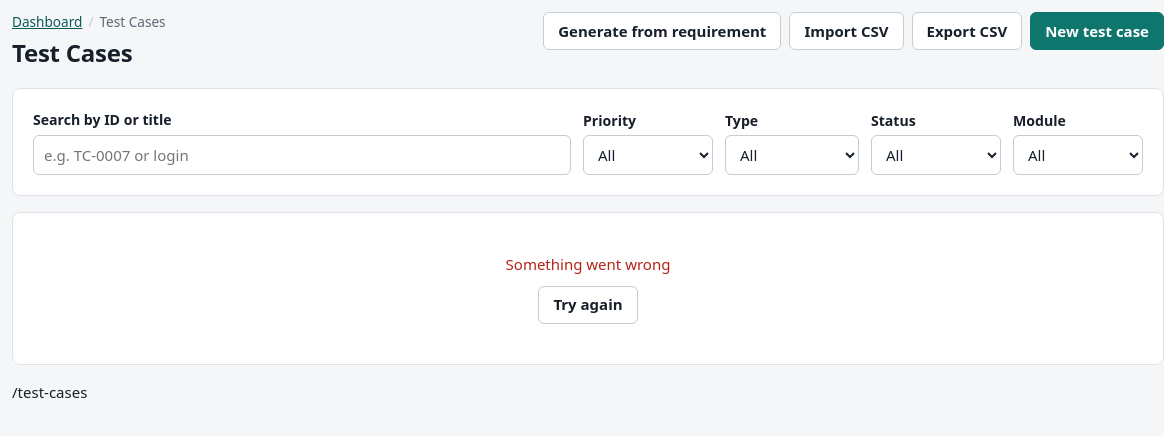
Test case: TestCaseListPage › shows an error state and retries
The width and height of the screenshot is (1164, 436).
Expected: the message shows "Something went wrong", x1=506 y1=254 x2=670 y2=274
Click the button "Try again" at [588, 304], box x1=538 y1=286 x2=638 y2=324
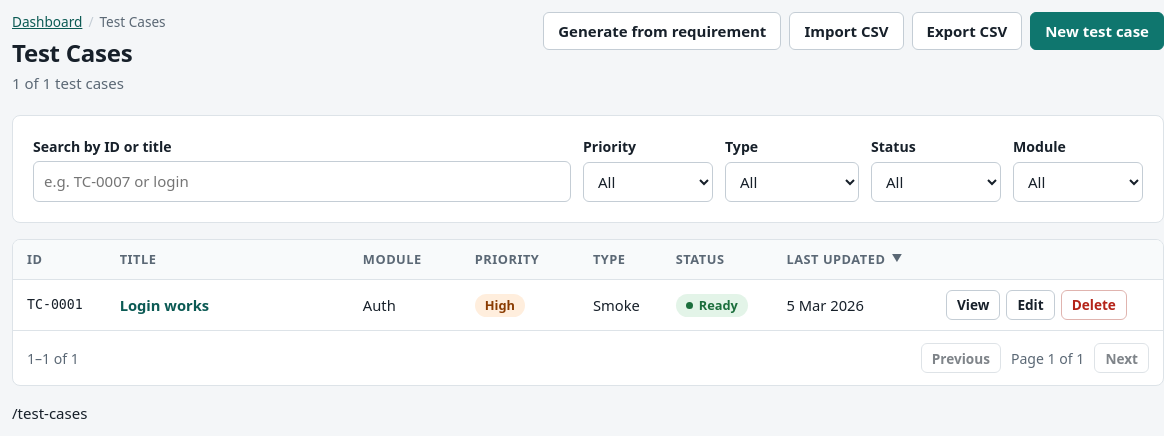
Result: the link "Login works" is shown at x1=120 y1=295 x2=209 y2=315
